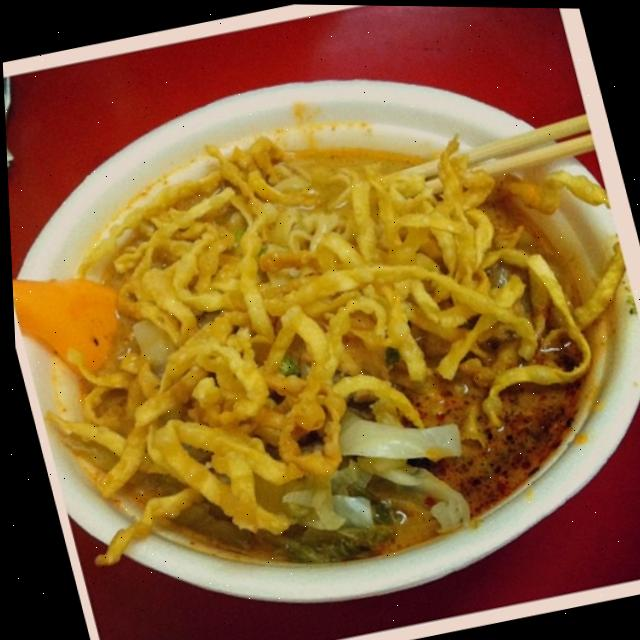面条主食: (1, 35, 640, 627)
